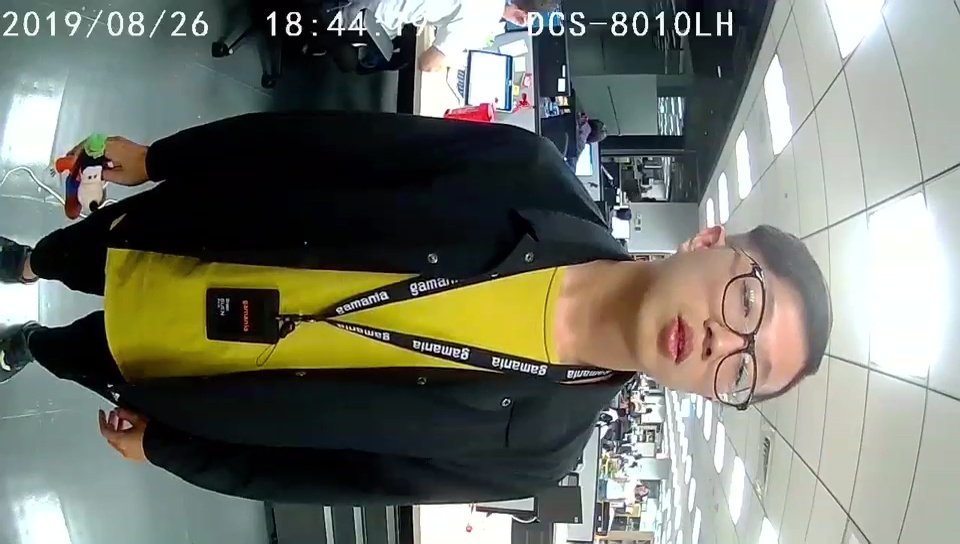goofy: (39, 132, 109, 220)
